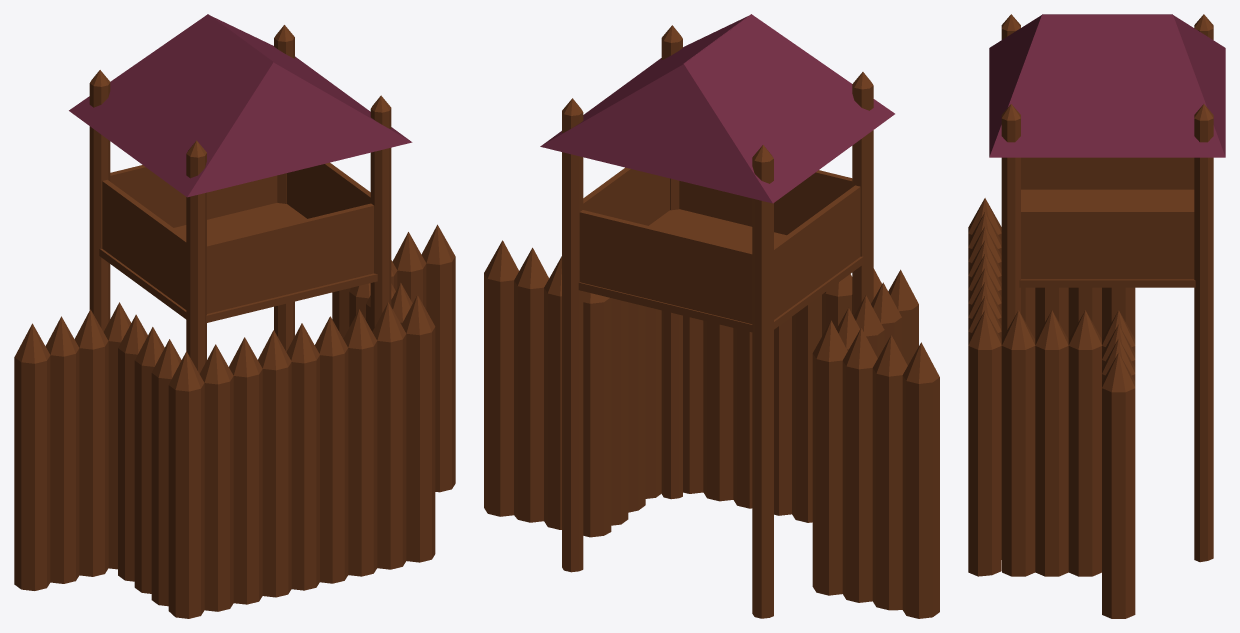
The model's file is Tower - Wood.fbx.
The picture shows the model from 3 angles, left to right: view 1: azimuth 30°, elevation 25°; view 2: azimuth 150°, elevation 25°; view 3: azimuth 270°, elevation 25°; orthographic projection. The views are drawn at different scales.
Parts seen in each view (by area): view 1: Tower_Fortification, Tower, Cover_003, Tower_wall; view 2: Tower, Tower_Fortification, Tower_wall, Cover_003; view 3: Tower_Fortification, Tower, Cover_003, Tower_wall.
Boxes of the visible parts, bbox=[...] form: Tower_Fortification: bbox=[103, 282, 435, 618]; Tower: bbox=[89, 25, 391, 373]; Cover_003: bbox=[69, 14, 412, 197]; Tower_wall: bbox=[14, 224, 455, 590]; Tower: bbox=[562, 25, 873, 618]; Tower_Fortification: bbox=[583, 268, 918, 595]; Tower_wall: bbox=[484, 240, 939, 618]; Cover_003: bbox=[540, 14, 894, 203]; Tower_Fortification: bbox=[968, 198, 1135, 576]; Tower: bbox=[1001, 14, 1213, 562]; Cover_003: bbox=[989, 14, 1225, 157]; Tower_wall: bbox=[1102, 324, 1135, 618].
Bounding box in the file's own units: 10 × 11.01 × 5.15.
